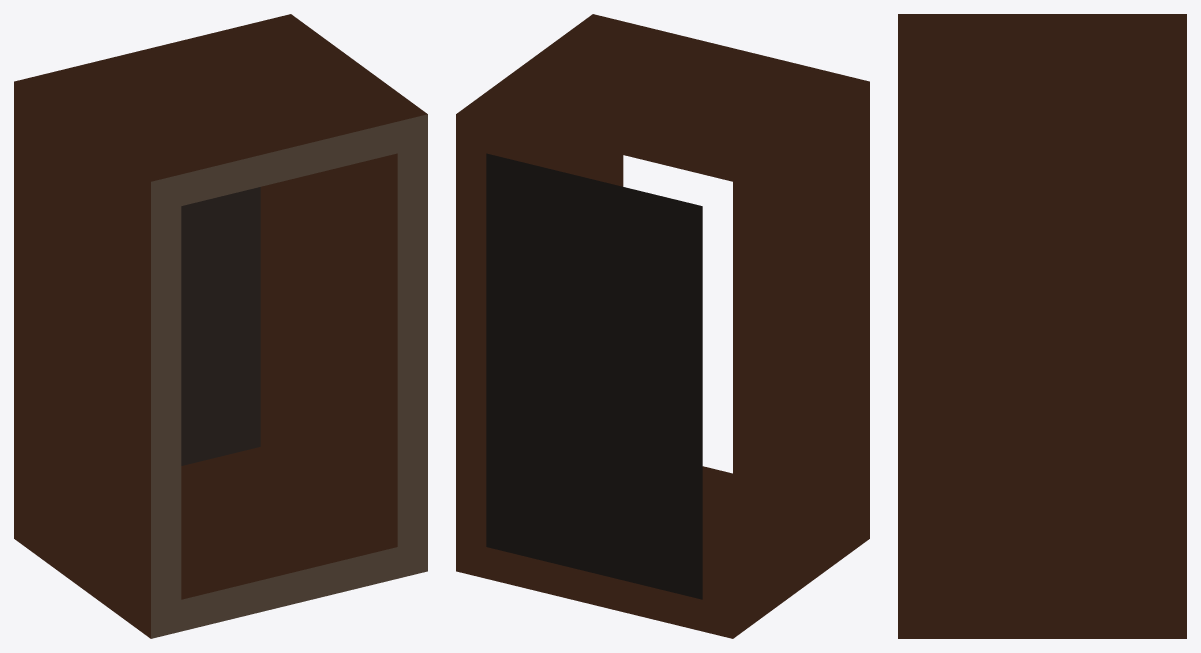
The model's file is Book_Shelf.fbx.
3 renders of one model, left to right at view 1: azimuth 30°, elevation 25°; view 2: azimuth 150°, elevation 25°; view 3: azimuth 270°, elevation 25°, orthographic. The views are drawn at different scales.
Visible parts, largest first — view 1: Book_Shelf; view 2: Book_Shelf; view 3: Book_Shelf.
Boxes of the visible parts, left/top/right/bottom form: Book_Shelf: left=14, top=14, right=427, bottom=638; Book_Shelf: left=456, top=14, right=869, bottom=638; Book_Shelf: left=898, top=14, right=1186, bottom=638.
Bounding box in the file's own units: 19.69 × 31.06 × 16.86.
